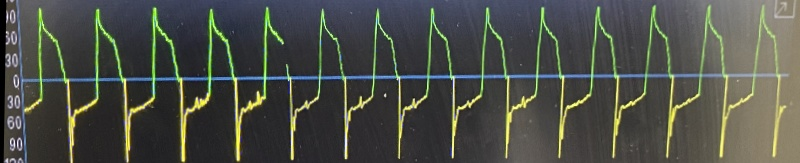hydrop_peepi: (13, 3, 800, 163)
